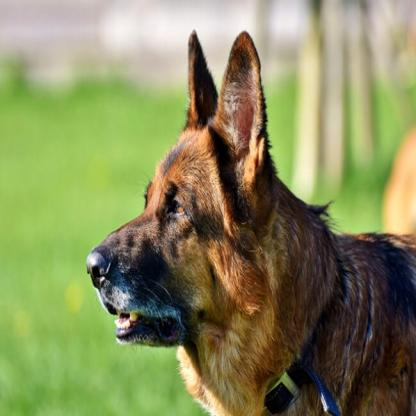dog: (82, 32, 416, 416)
